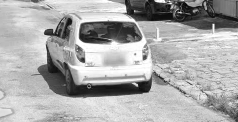car: (43, 10, 155, 96)
